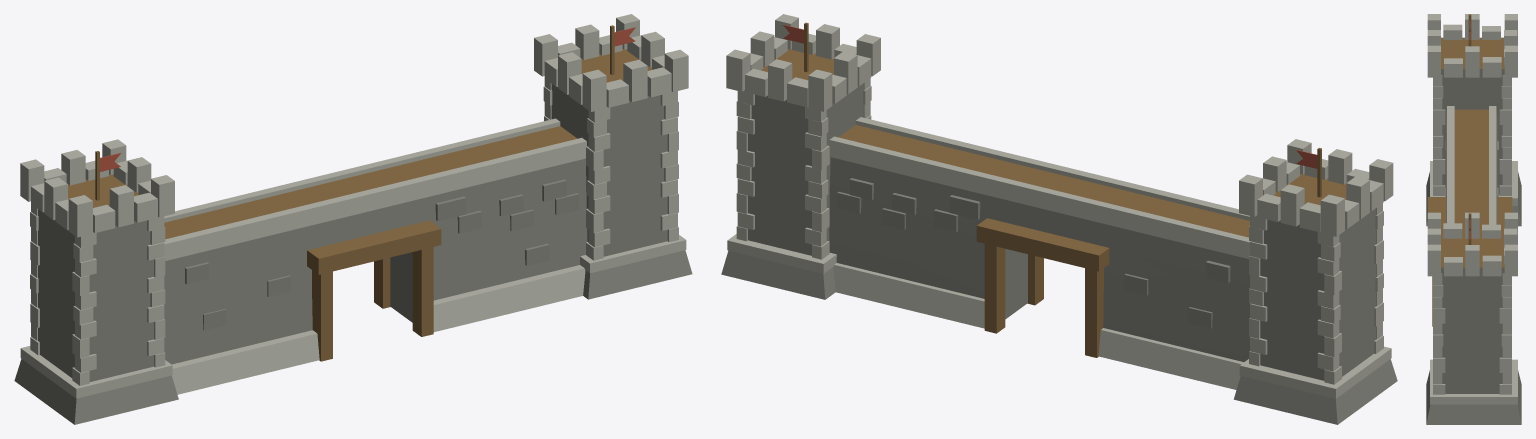
Rendered from WallTowers_Door_SecondAge.glb.
3 renders of one model, left to right at view 1: azimuth 30°, elevation 25°; view 2: azimuth 150°, elevation 25°; view 3: azimuth 270°, elevation 25°, orthographic. The views are drawn at different scales.
Visible parts, largest first — view 1: WallTowers_Door_SecondAge; view 2: WallTowers_Door_SecondAge; view 3: WallTowers_Door_SecondAge.
Boxes of the visible parts, x1,y1,x2,y2 form: WallTowers_Door_SecondAge: (14,14,692,424); WallTowers_Door_SecondAge: (721,14,1397,424); WallTowers_Door_SecondAge: (1426,14,1521,424).
Bounding box in the file's own units: 1.98 × 0.7371 × 0.3333.
